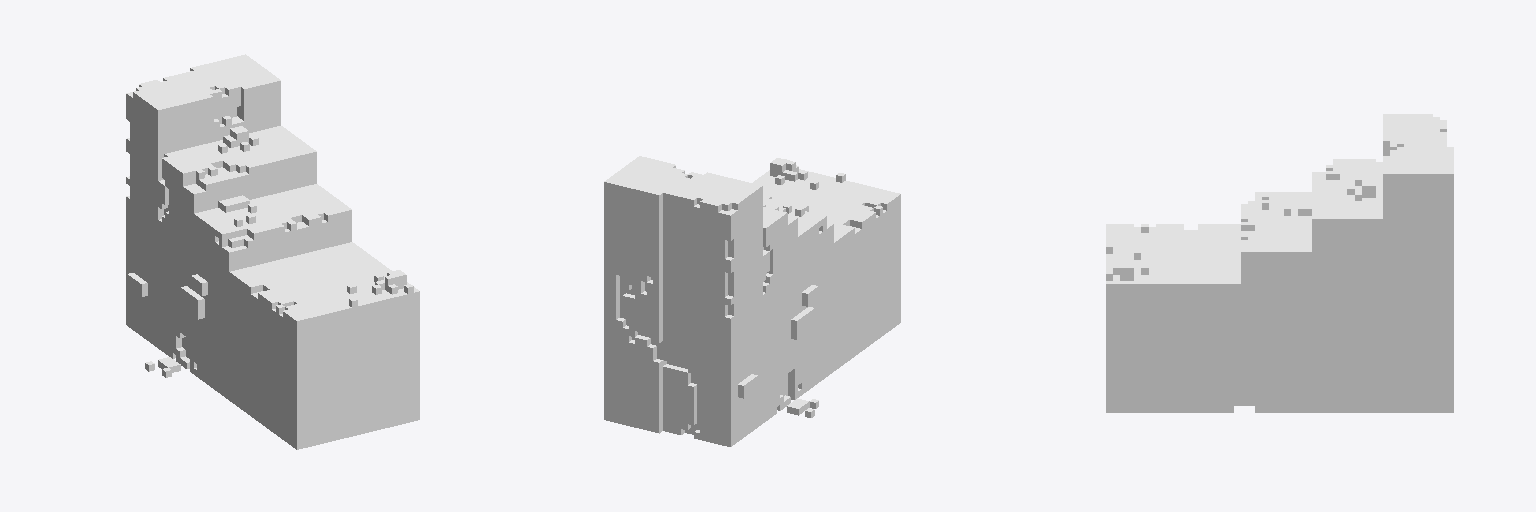
Rendered from vox-35-Stairs_High.obj.
3 renders of one model, left to right at view 1: azimuth 30°, elevation 25°; view 2: azimuth 150°, elevation 25°; view 3: azimuth 270°, elevation 25°, orthographic.
Parts seen in each view (by area): view 1: Stairs_High; view 2: Stairs_High; view 3: Stairs_High.
Boxes of the visible parts, box(x1,y1,x2,y2) form: Stairs_High: box(126, 54, 419, 449); Stairs_High: box(604, 156, 900, 446); Stairs_High: box(1106, 114, 1453, 412).
Size of the model in its own units: 2.5 by 3.7 by 4.9.